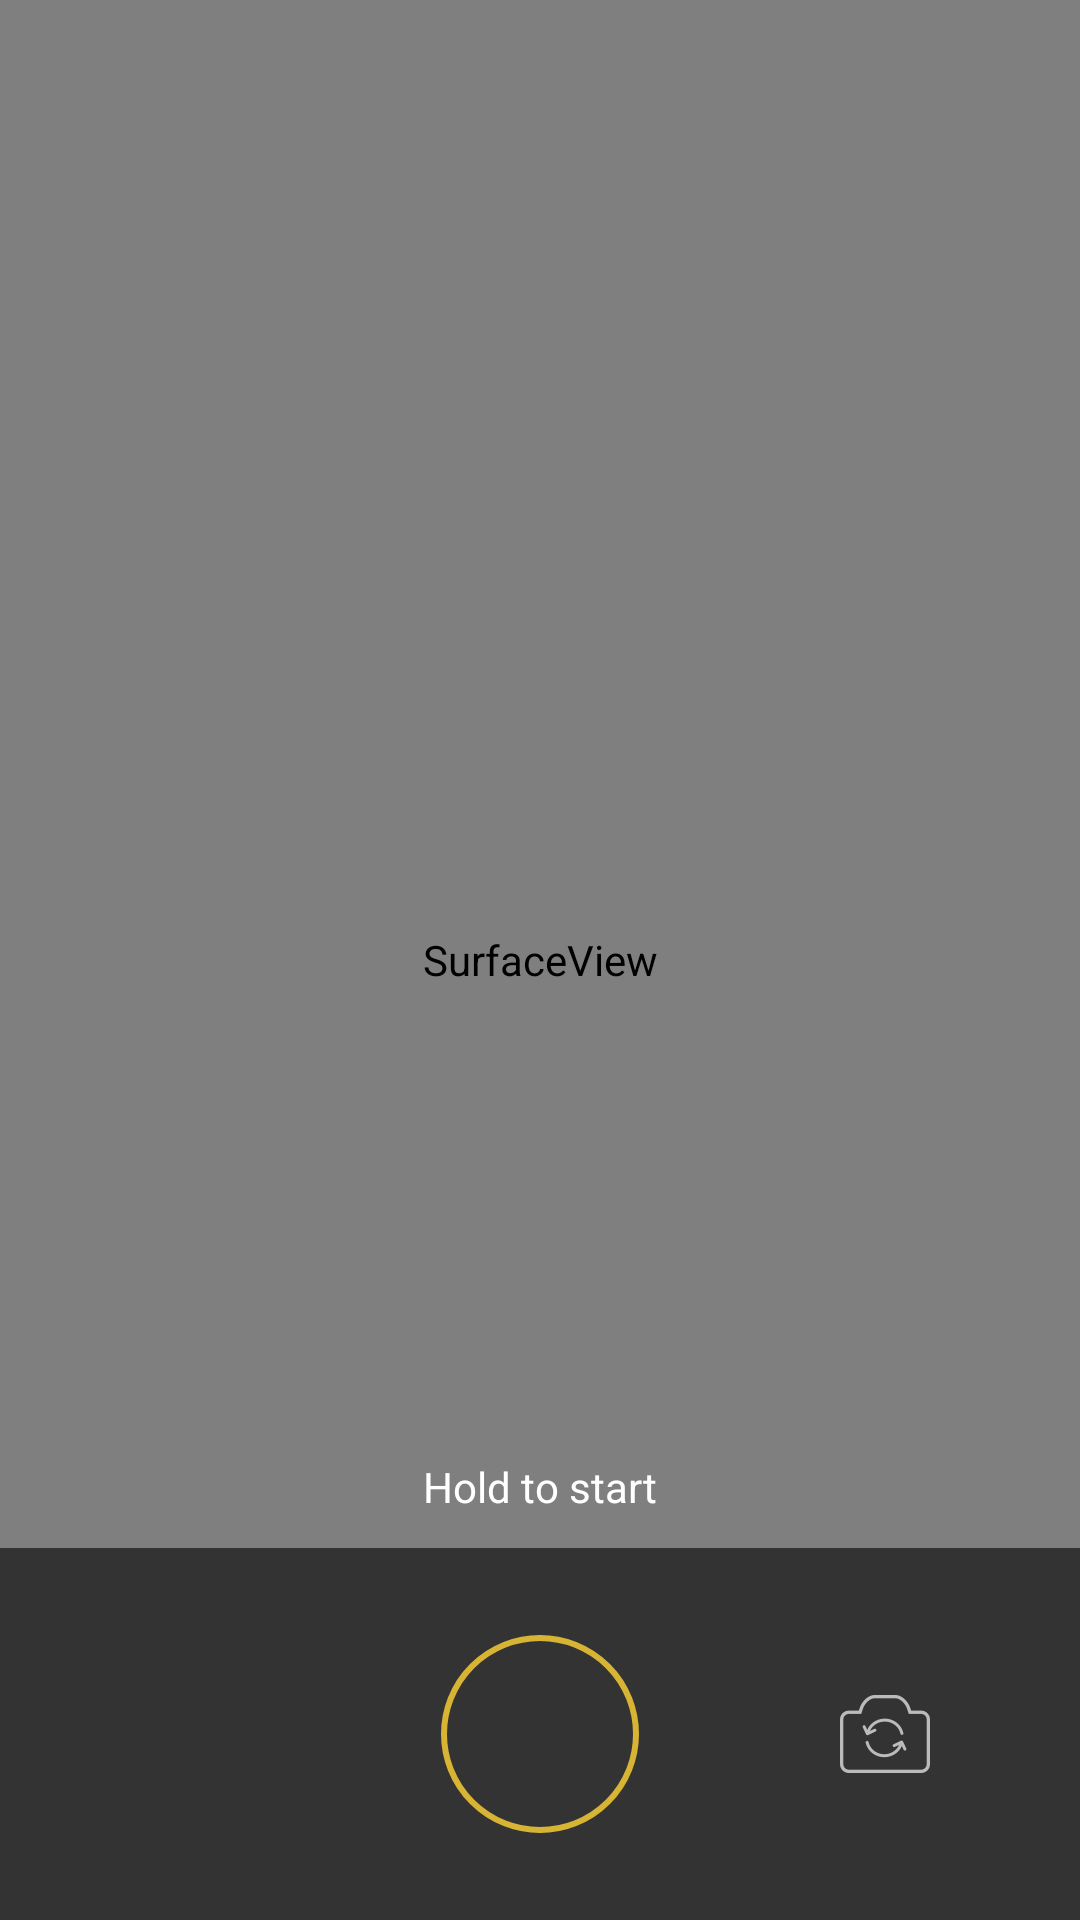

Icon click points for this 1080x1920 phone screenshot, format (x,y):
reverse camera: (885,1734)
